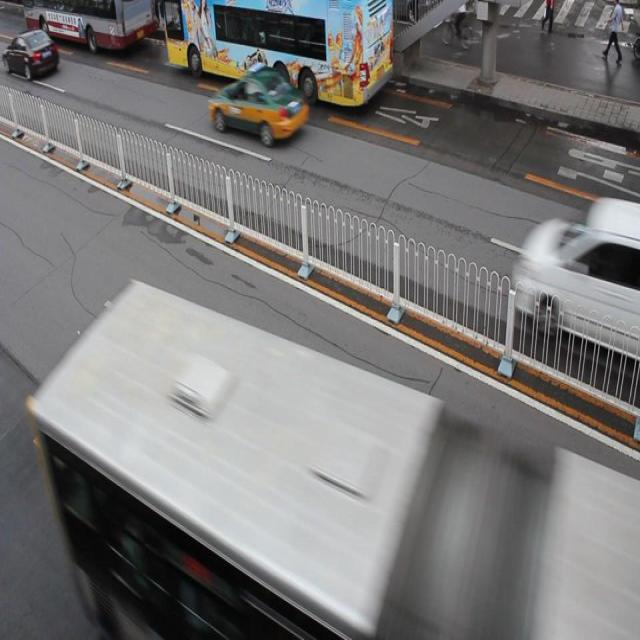car: (209, 66, 308, 142), (1, 28, 59, 82)
truck: (509, 195, 640, 361)
van: (34, 283, 640, 639), (163, 1, 392, 109), (24, 1, 155, 50)
